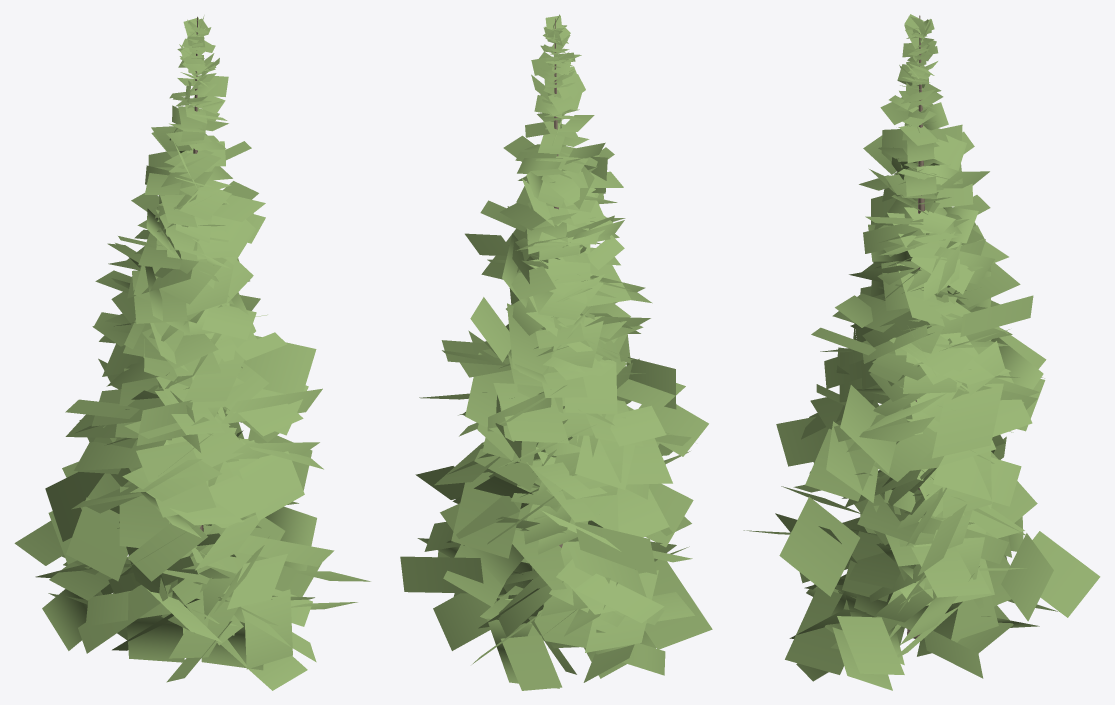
File: Conifer_1_lod2.glb
3 views of the same model, side by side, from view 1: azimuth 30°, elevation 25°; view 2: azimuth 150°, elevation 25°; view 3: azimuth 270°, elevation 25° (orthographic).
Parts seen in each view (by area): view 1: Conifer_1_lod2; view 2: Conifer_1_lod2; view 3: Conifer_1_lod2.
Boxes of the visible parts, x1,y1,x2,y2 form: Conifer_1_lod2: (14, 15, 370, 690); Conifer_1_lod2: (400, 14, 712, 690); Conifer_1_lod2: (743, 14, 1100, 690).
Bounding box in the file's own units: 6.68 × 14.51 × 7.34.
